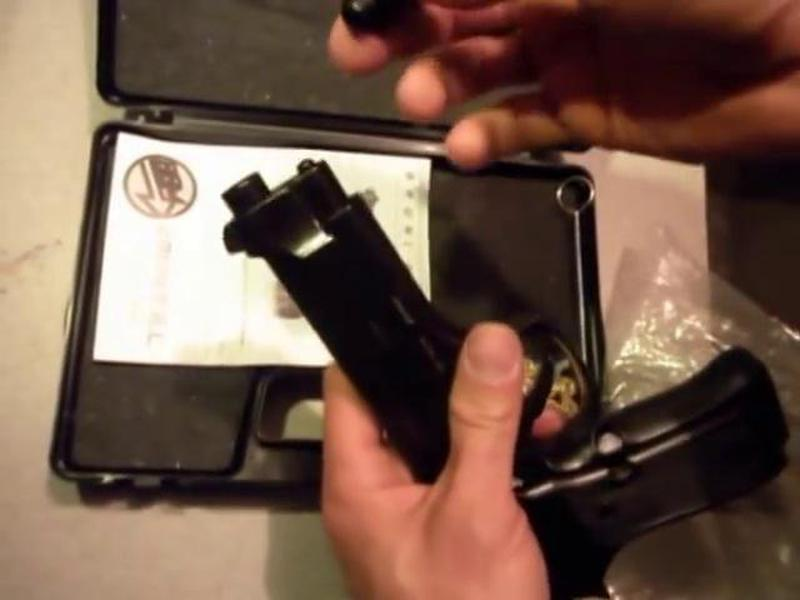Pistola: (201, 137, 778, 597)
